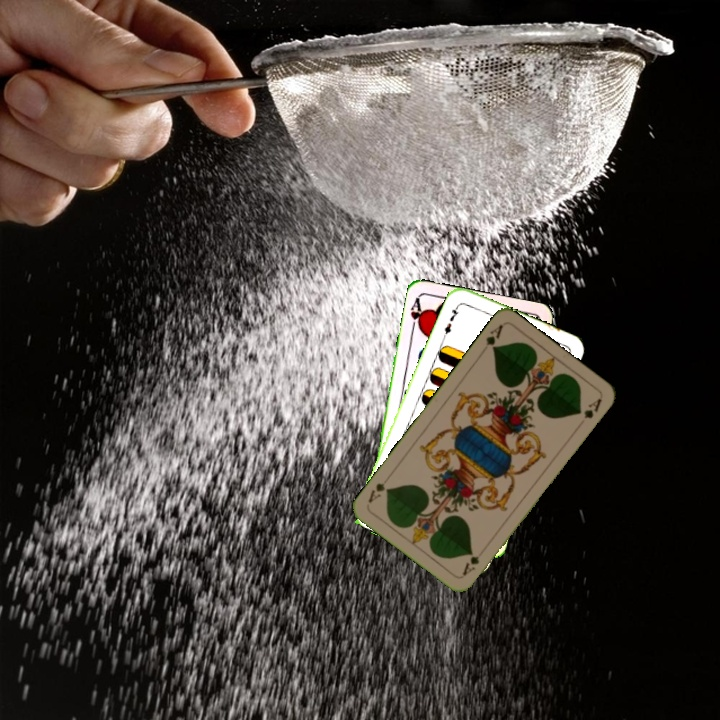E7: (439, 300, 462, 339)
GA: (482, 320, 506, 354), (458, 552, 482, 578)
HA: (406, 293, 426, 334)
